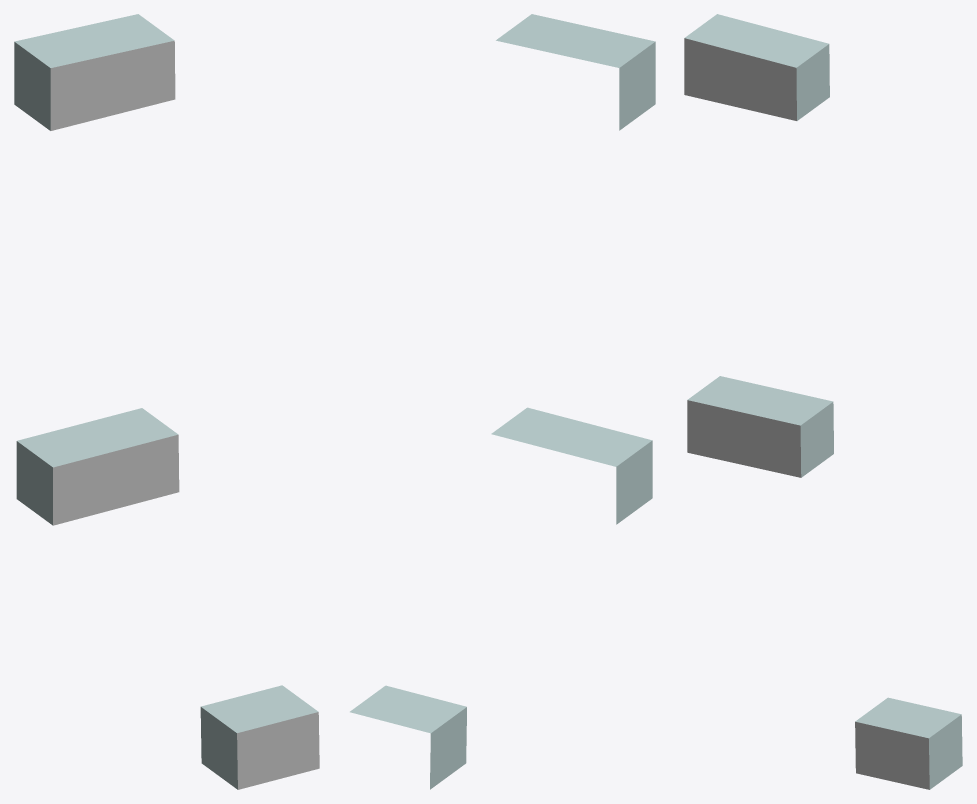
The picture shows the model from 3 angles, left to right: view 1: azimuth 30°, elevation 25°; view 2: azimuth 150°, elevation 25°; view 3: azimuth 330°, elevation 25°; orthographic projection. The views are drawn at different scales.
Visible parts, largest first — view 1: 0_2_3_2_3_1_3_1_1; view 2: 0_2_3_2_3_1_3_1_1; view 3: 0_2_3_2_3_1_3_1_1.
Boxes of the visible parts, x1,y1,x2,y2 form: 0_2_3_2_3_1_3_1_1: (14,14,319,789); 0_2_3_2_3_1_3_1_1: (350,14,655,789); 0_2_3_2_3_1_3_1_1: (684,14,962,789).
Bounding box in the file's own units: 12.86 × 34.93 × 3.11.
